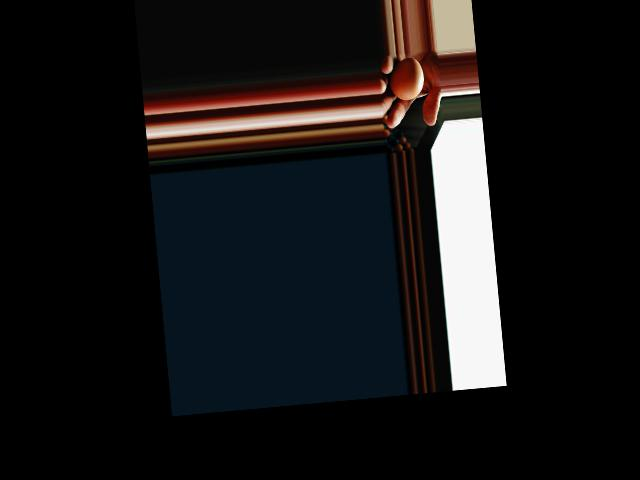egg: (386, 55, 425, 101)
